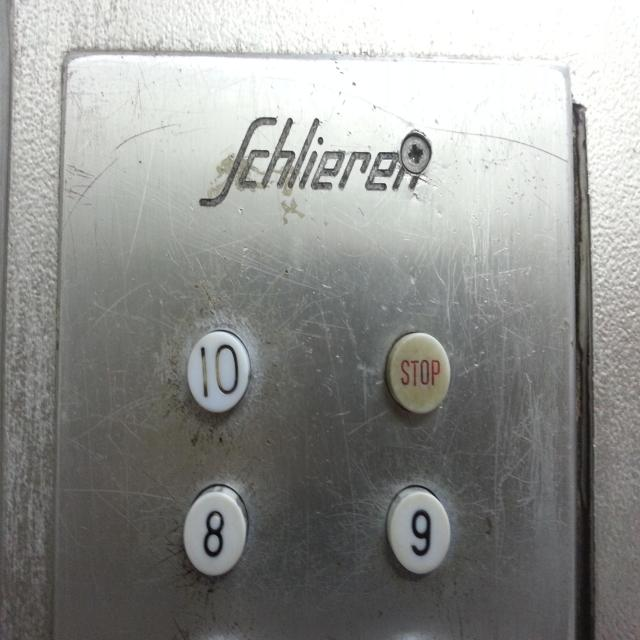10: (184, 326, 252, 417)
8: (181, 482, 250, 580)
9: (385, 482, 453, 579)
text_stop: (384, 328, 452, 417)
